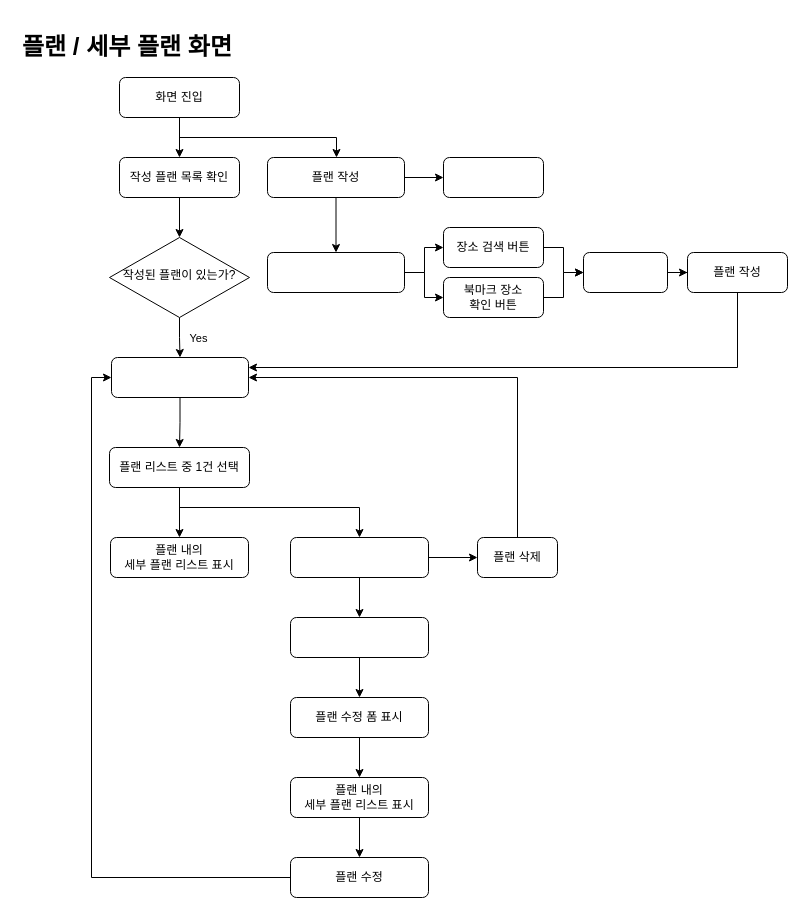
Image size: 805x915. Some labels were removed from this diagram. The box of each missing label's shape, as (x1, y1, x2, y2) in pixels:
세부 플랜 추가: (582, 252, 668, 292)
세부 플랜 추가 버튼: (266, 252, 404, 292)
작성 취소 버튼: (442, 156, 544, 198)
플랜 리스트 표시: (110, 356, 248, 398)
플랜 수정 / 삭제 버튼 표시: (290, 536, 428, 578)
플랜 수정 버튼 클릭: (290, 616, 428, 658)
